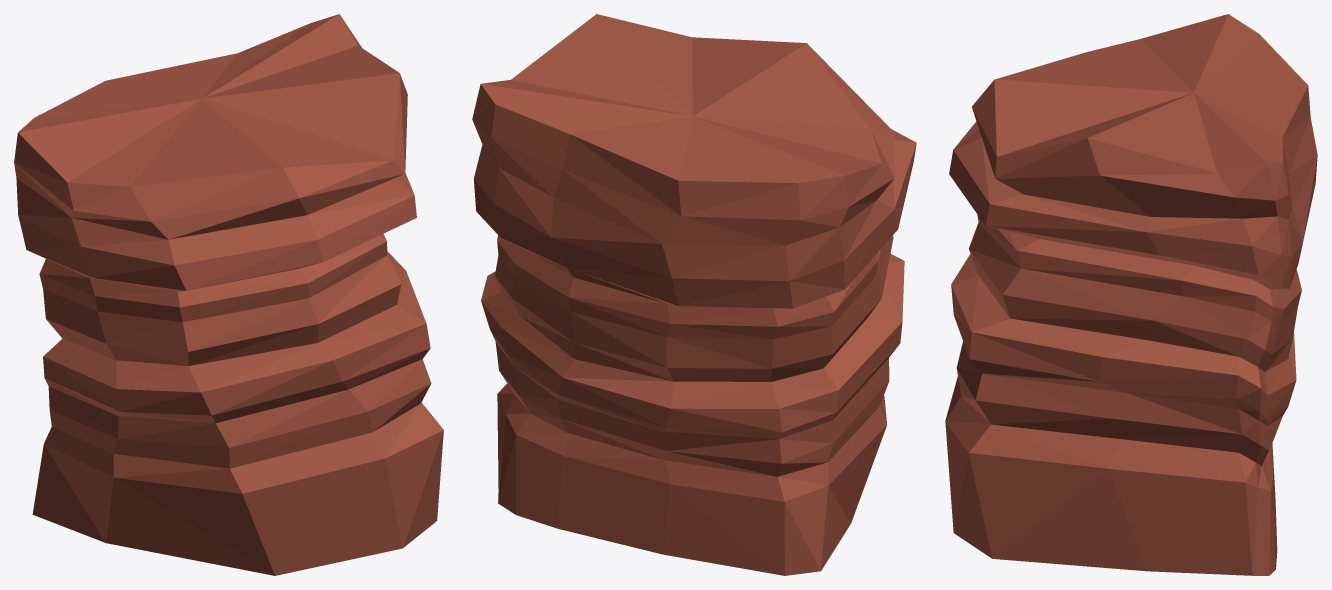
Rendered from crag_005.fbx.
3 renders of one model, left to right at view 1: azimuth 30°, elevation 25°; view 2: azimuth 150°, elevation 25°; view 3: azimuth 270°, elevation 25°, orthographic. The views are drawn at different scales.
Visible parts, largest first — view 1: crag_005; view 2: crag_005; view 3: crag_005.
Part boxes in pixels (<box>): crag_005: <box>14,14,443,575</box>; crag_005: <box>472,14,916,575</box>; crag_005: <box>945,14,1317,575</box>.
Size of the model in its own units: 1196 by 1058 by 1384.
